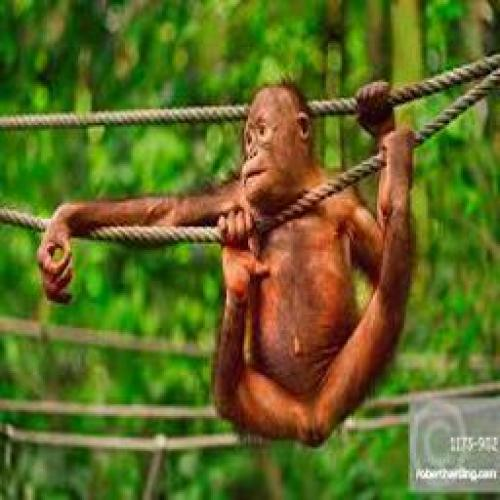orangutan-endangered: (23, 73, 425, 436)
